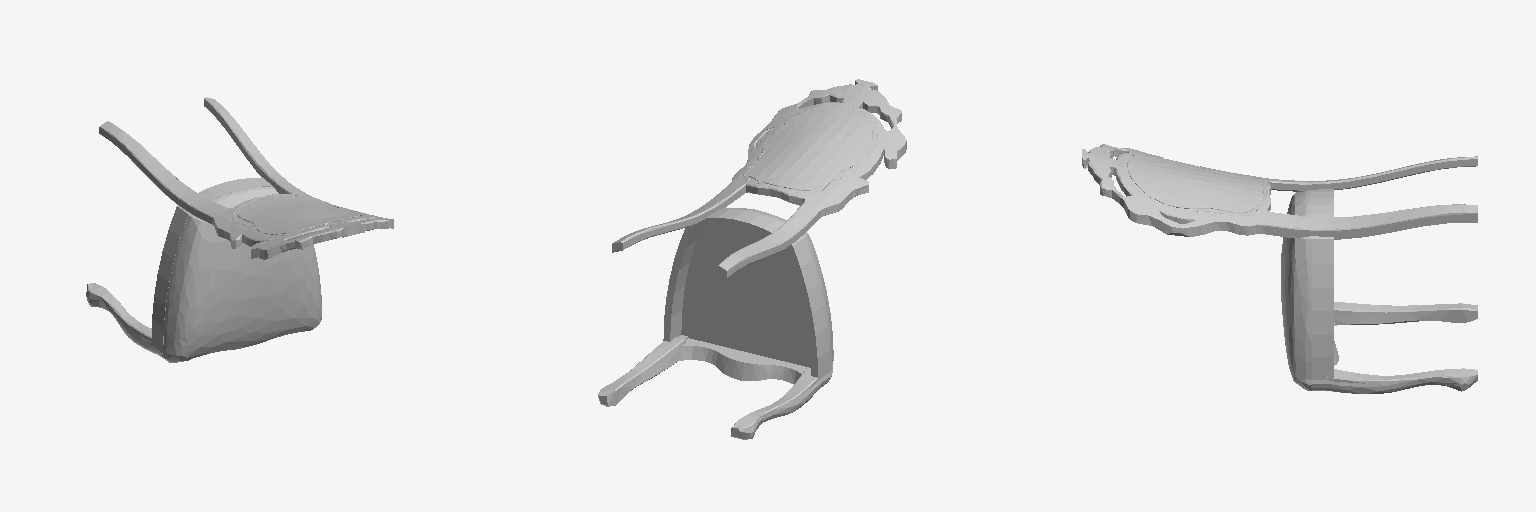
The model's file is chair_0187_QEM_90pct.obj.
The picture shows the model from 3 angles: view 1: azimuth 30°, elevation 25°; view 2: azimuth 150°, elevation 25°; view 3: azimuth 270°, elevation 25°; orthographic projection.
Size of the model in its own units: 0.4597 by 0.5715 by 1.